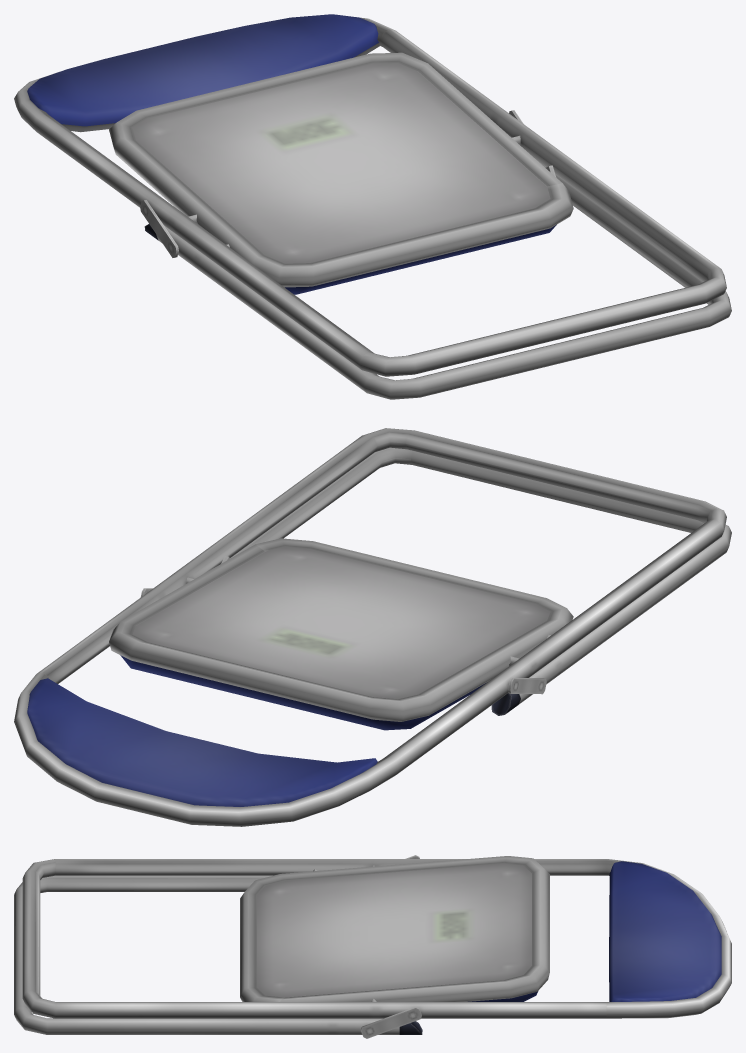
File: jsf_FoldingChair_b.fbx
The picture shows the model from 3 angles, top to bottom: view 1: azimuth 30°, elevation 25°; view 2: azimuth 150°, elevation 25°; view 3: azimuth 270°, elevation 25°; orthographic projection. The views are drawn at different scales.
Parts seen in each view (by area): view 1: jsf_FoldingChair_b; view 2: jsf_FoldingChair_b; view 3: jsf_FoldingChair_b.
Part boxes in pixels (x1,y1,x2,y2): jsf_FoldingChair_b: [14, 14, 731, 399]; jsf_FoldingChair_b: [14, 428, 731, 826]; jsf_FoldingChair_b: [14, 855, 731, 1038].
Bounding box in the file's own units: 44.65 × 7.44 × 88.61.
